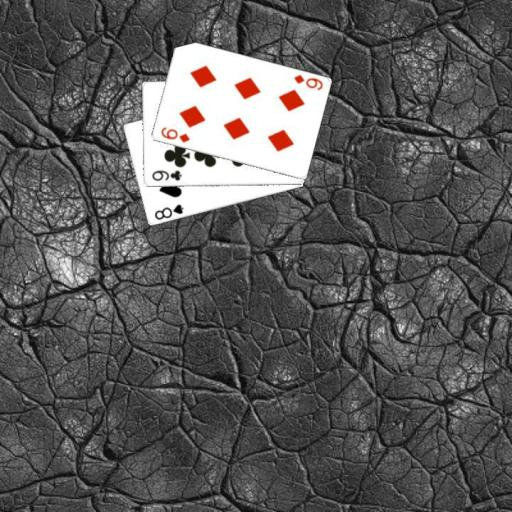6D: (157, 124, 191, 144), (290, 72, 324, 92)
8S: (151, 201, 185, 222)
9C: (149, 167, 183, 183)
